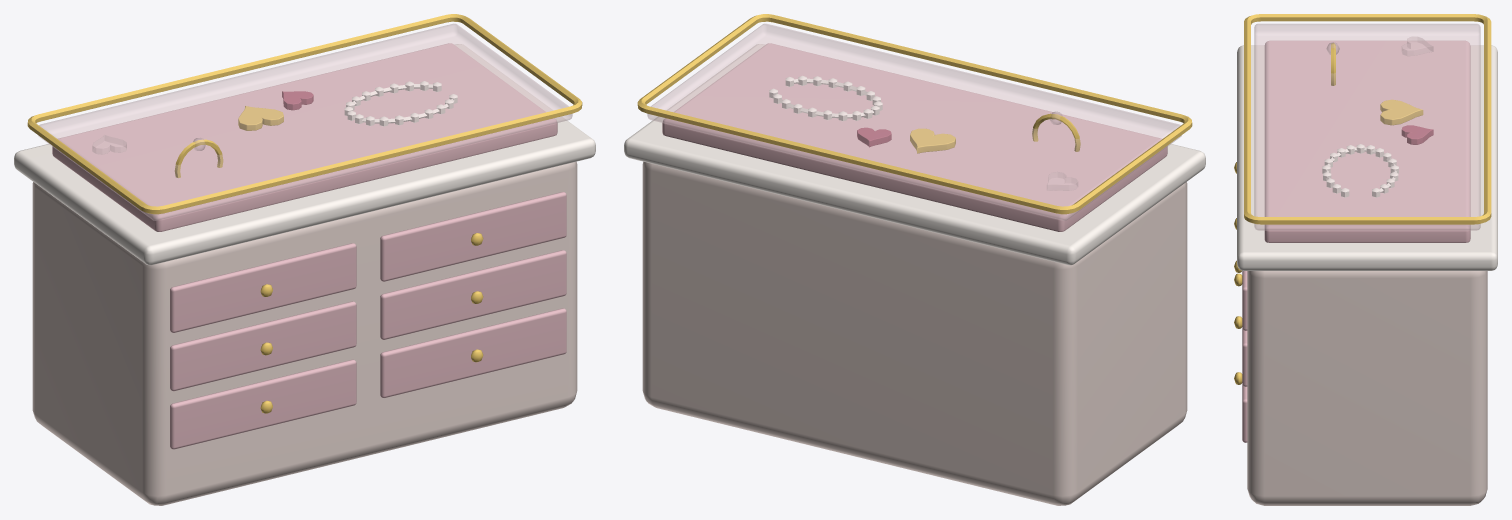
The model's file is closet_island.glb.
3 views of the same model, side by side, from view 1: azimuth 30°, elevation 25°; view 2: azimuth 150°, elevation 25°; view 3: azimuth 270°, elevation 25° (orthographic). The views are drawn at different scales.
Parts seen in each view (by area): view 1: closet_island; view 2: closet_island; view 3: closet_island.
Part boxes in pixels (<box>): closet_island: <box>14,14,595,505</box>; closet_island: <box>624,14,1205,505</box>; closet_island: <box>1234,14,1497,505</box>.
Bounding box in the file's own units: 1.46 × 1 × 0.769.
